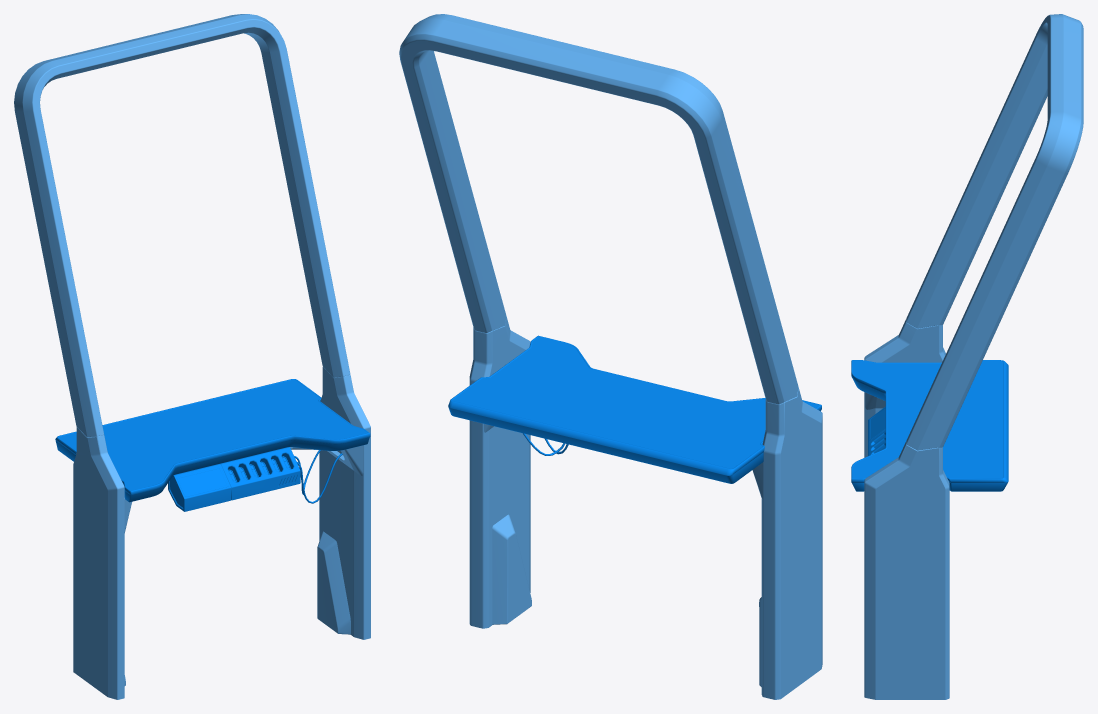
File: TableRangeGeo.fbx
3 renders of one model, left to right at view 1: azimuth 30°, elevation 25°; view 2: azimuth 150°, elevation 25°; view 3: azimuth 270°, elevation 25°, orthographic. The views are drawn at different scales.
Visible parts, largest first — view 1: TableRangeGeo; view 2: TableRangeGeo; view 3: TableRangeGeo.
Part boxes in pixels (x1,y1,x2,y2): TableRangeGeo: (14,14,370,699); TableRangeGeo: (399,14,822,699); TableRangeGeo: (851,14,1083,699).
Size of the model in its own units: 130 by 265 by 97.81.
